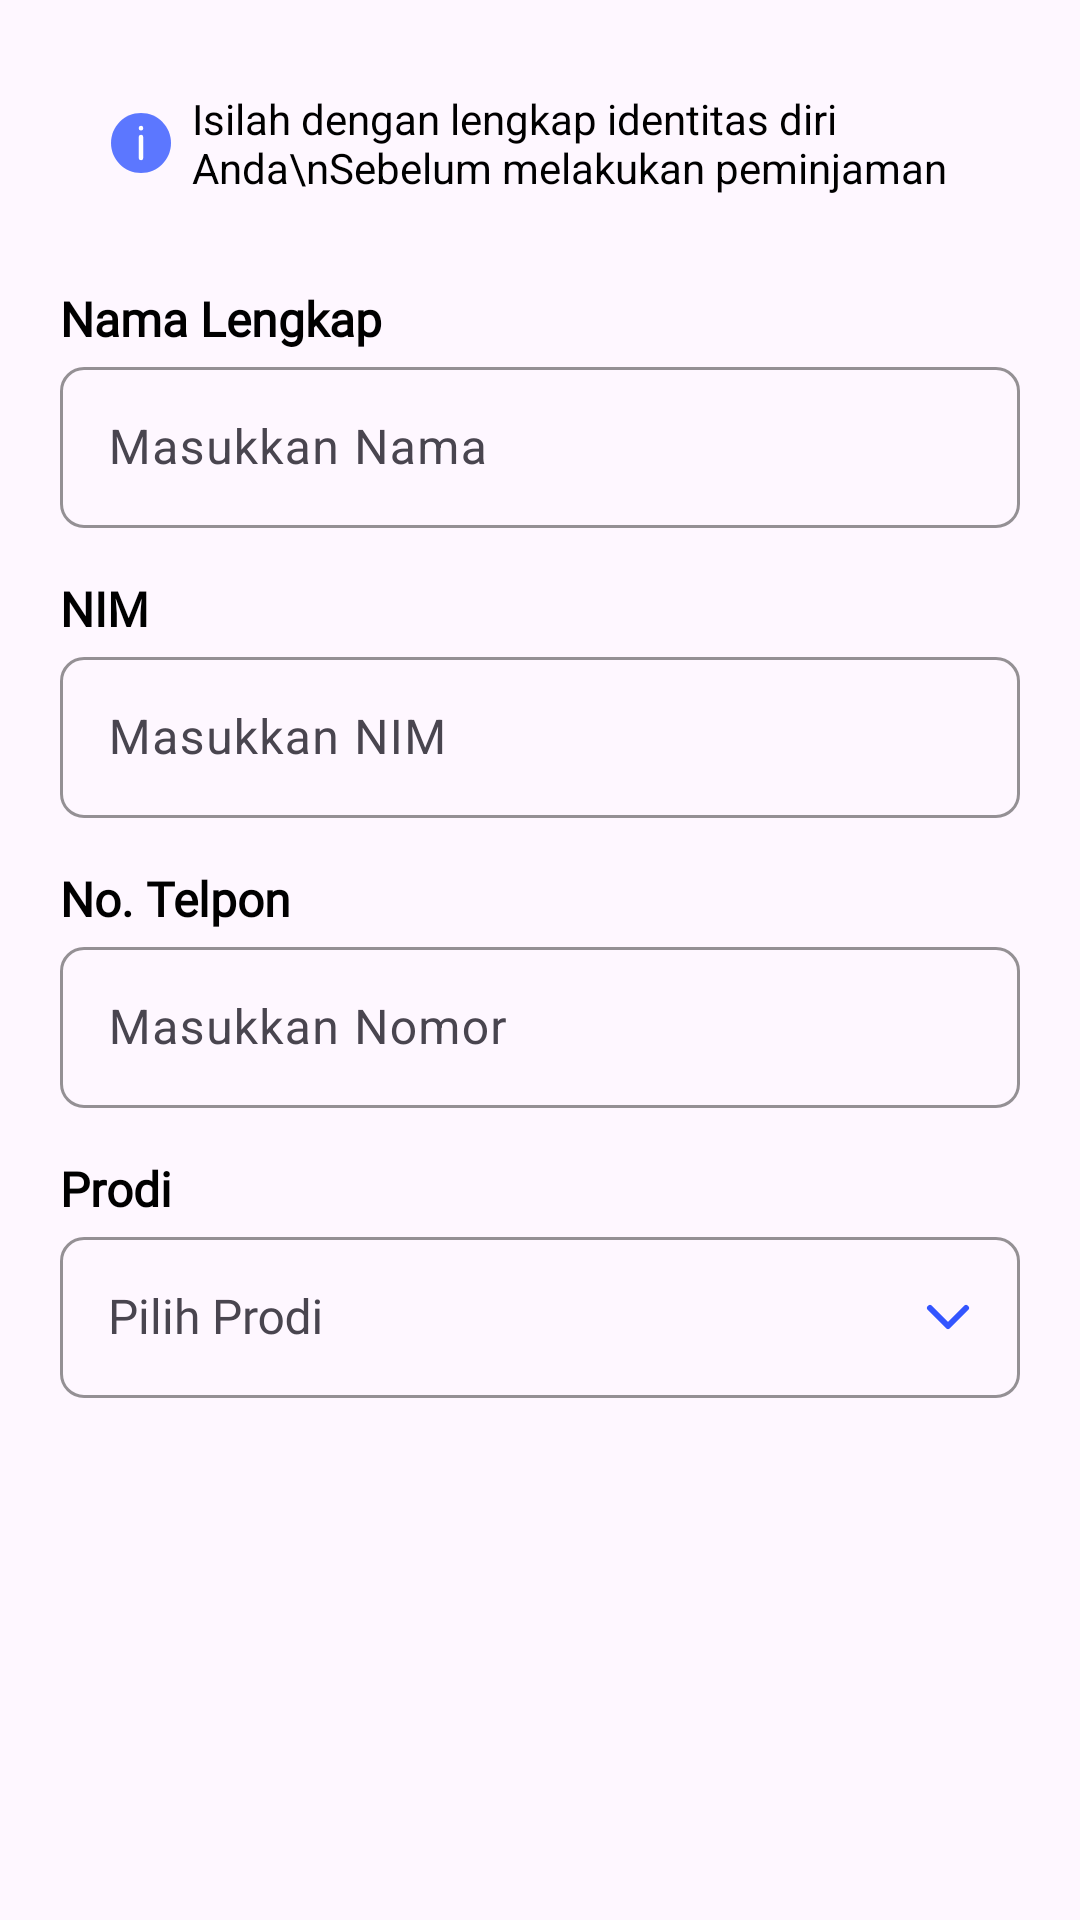

Point at icon controls on the screen. Image size 1080px×1920px, points as (x=x, y=y).
alert: (x=141, y=143)
